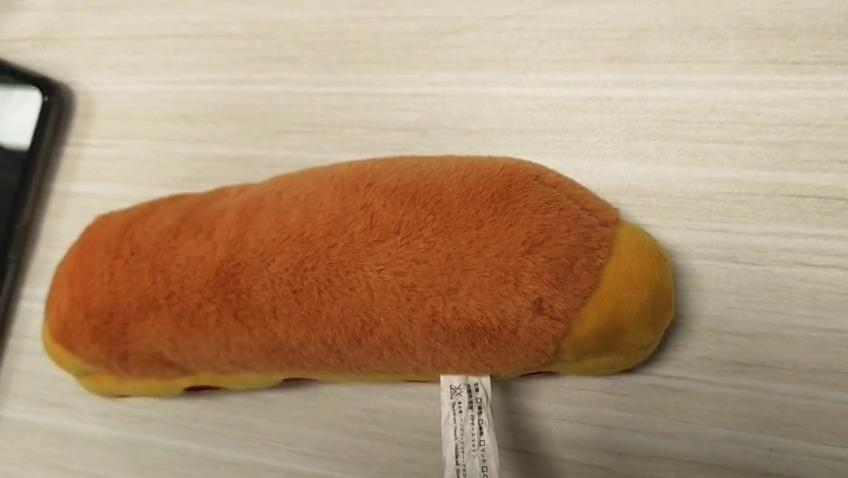hotdog: (40, 157, 675, 398)
